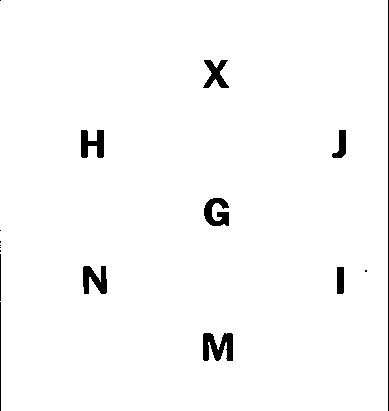I: (329, 261, 353, 303)
